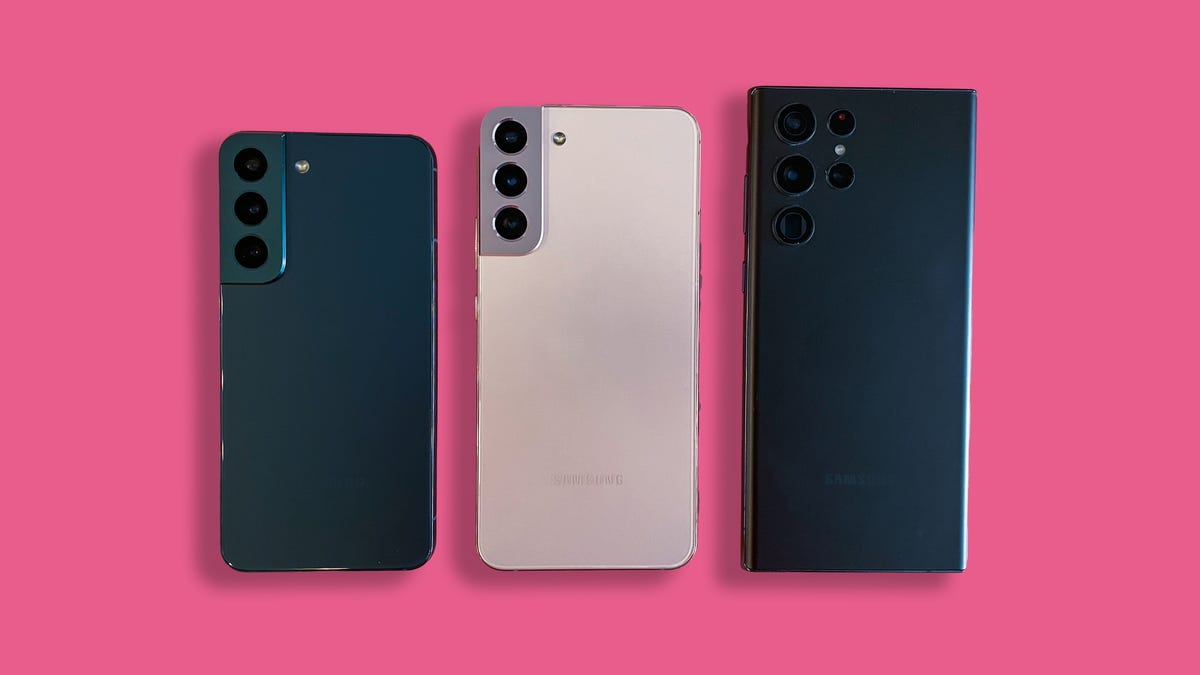phones: (740, 77, 980, 582), (202, 113, 442, 573), (478, 97, 702, 584)
